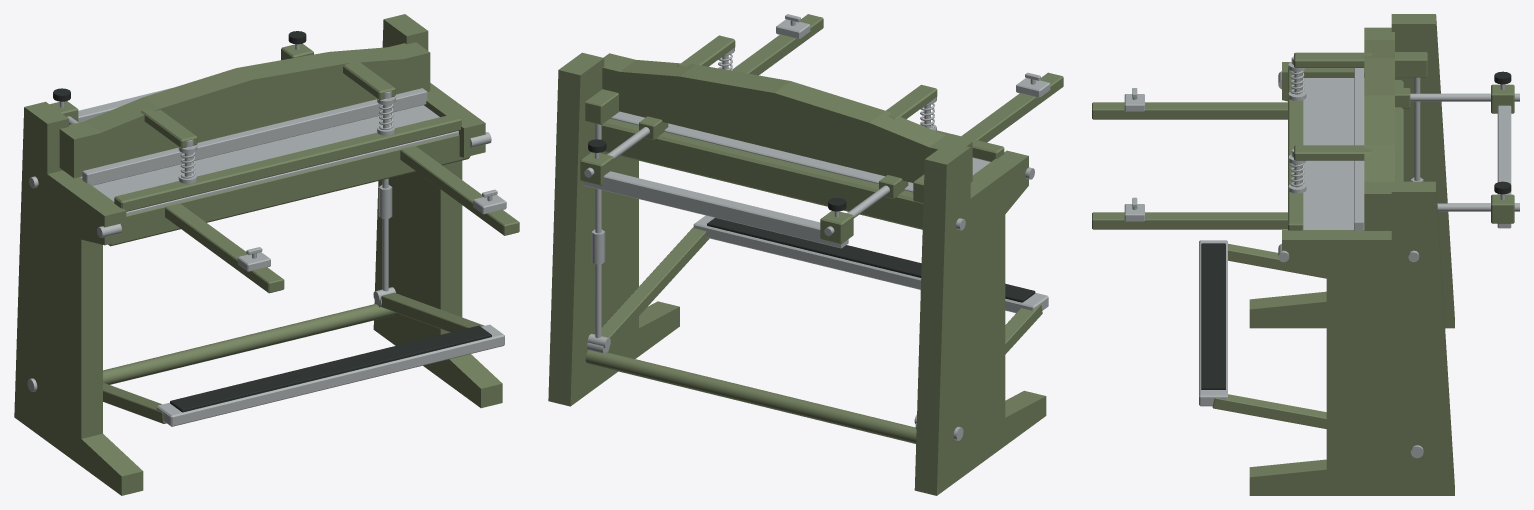
3 views of the same model, side by side, from view 1: azimuth 30°, elevation 25°; view 2: azimuth 150°, elevation 25°; view 3: azimuth 270°, elevation 25° (orthographic). The views are drawn at different scales.
Visible parts, largest first — view 1: Integral floor side frame -1, Original crowned upper crosshead, Integral floor side frame 1, Long horizontal blade bed, Plain steel bed surface, Long front hold down beam, Blunt generic upper shear blade, Lower fixed frame cross tie, Treadle textured-grip interpretation, Full width front treadle, Forward stock support arm -1, Forward stock support arm 1 (+6 smaller); view 2: Integral floor side frame -1, Original crowned upper crosshead, Integral floor side frame 1, Long horizontal blade bed, Lower fixed frame cross tie, Rear stock gauge cross bar, Full width front treadle, Treadle textured-grip interpretation, Treadle lever arm 1, Plain steel bed surface, Forward stock support arm -1, Forward stock support arm 1 (+8 smaller); view 3: Integral floor side frame 1, Integral floor side frame -1, Plain steel bed surface, Original crowned upper crosshead, Treadle textured-grip interpretation, Forward stock support arm 1, Forward stock support arm -1, Treadle lever arm 1, Long front hold down beam, Blunt generic upper shear blade, Rear stock gauge cross bar, Full width front treadle (+10 smaller).
Part boxes in pixels (<box>): Integral floor side frame -1: <box>14,101,143,495</box>; Original crowned upper crosshead: <box>59,42,430,178</box>; Integral floor side frame 1: <box>373,14,502,408</box>; Long horizontal blade bed: <box>108,134,470,246</box>; Plain steel bed surface: <box>80,105,458,215</box>; Long front hold down beam: <box>114,114,461,211</box>; Blunt generic upper shear blade: <box>82,88,427,185</box>; Lower fixed frame cross tie: <box>103,304,395,384</box>; Treadle textured-grip interpretation: <box>170,325,491,412</box>; Full width front treadle: <box>156,324,504,426</box>; Forward stock support arm -1: <box>165,203,284,293</box>; Forward stock support arm 1: <box>400,146,519,235</box>; Integral floor side frame -1: <box>914,142,1046,495</box>; Original crowned upper crosshead: <box>602,53,972,182</box>; Integral floor side frame 1: <box>548,52,679,406</box>; Long horizontal blade bed: <box>601,118,923,229</box>; Lower fixed frame cross tie: <box>585,350,916,443</box>; Rear stock gauge cross bar: <box>583,171,848,248</box>; Full width front treadle: <box>693,215,1048,312</box>; Treadle textured-grip interpretation: <box>707,217,1035,302</box>; Treadle lever arm 1: <box>601,227,709,348</box>; Plain steel bed surface: <box>610,111,990,192</box>; Forward stock support arm -1: <box>961,72,1063,142</box>; Forward stock support arm 1: <box>732,14,823,75</box>; Integral floor side frame 1: <box>1249,181,1454,495</box>; Integral floor side frame -1: <box>1249,14,1454,328</box>; Plain steel bed surface: <box>1303,78,1364,229</box>; Original crowned upper crosshead: <box>1364,27,1394,230</box>; Treadle textured-grip interpretation: <box>1201,243,1225,389</box>; Forward stock support arm 1: <box>1092,212,1287,229</box>; Forward stock support arm -1: <box>1092,102,1287,119</box>; Treadle lever arm 1: <box>1212,394,1326,428</box>; Long front hold down beam: <box>1288,66,1303,230</box>; Blunt generic upper shear blade: <box>1354,68,1363,230</box>; Rear stock gauge cross bar: <box>1497,105,1511,228</box>; Full width front treadle: <box>1199,240,1227,406</box>.
Bounding box in the file's own units: 126 × 101 × 125.
